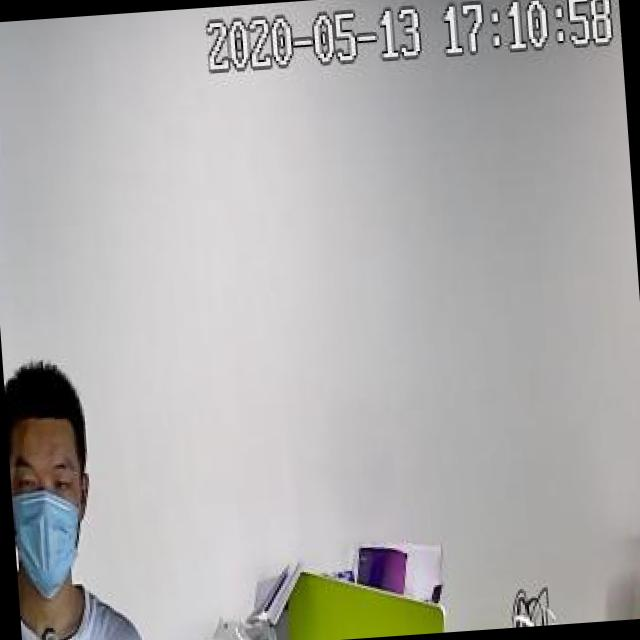Guns: (20, 611, 79, 640)
